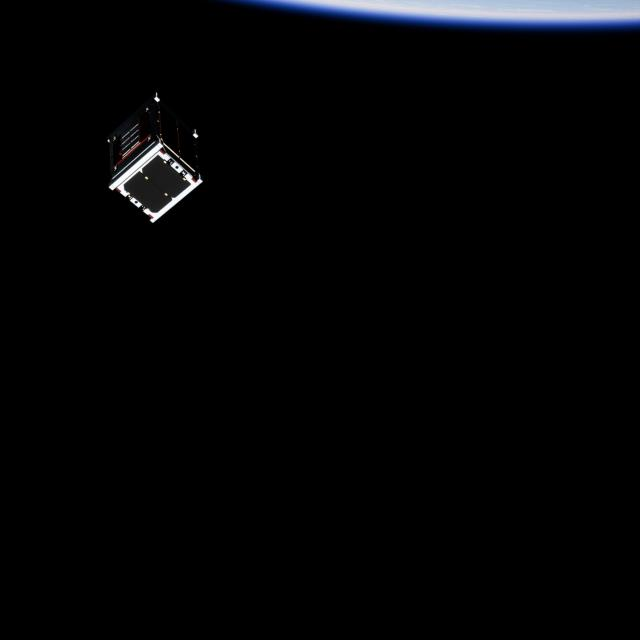medium_debris: (98, 81, 210, 222)
